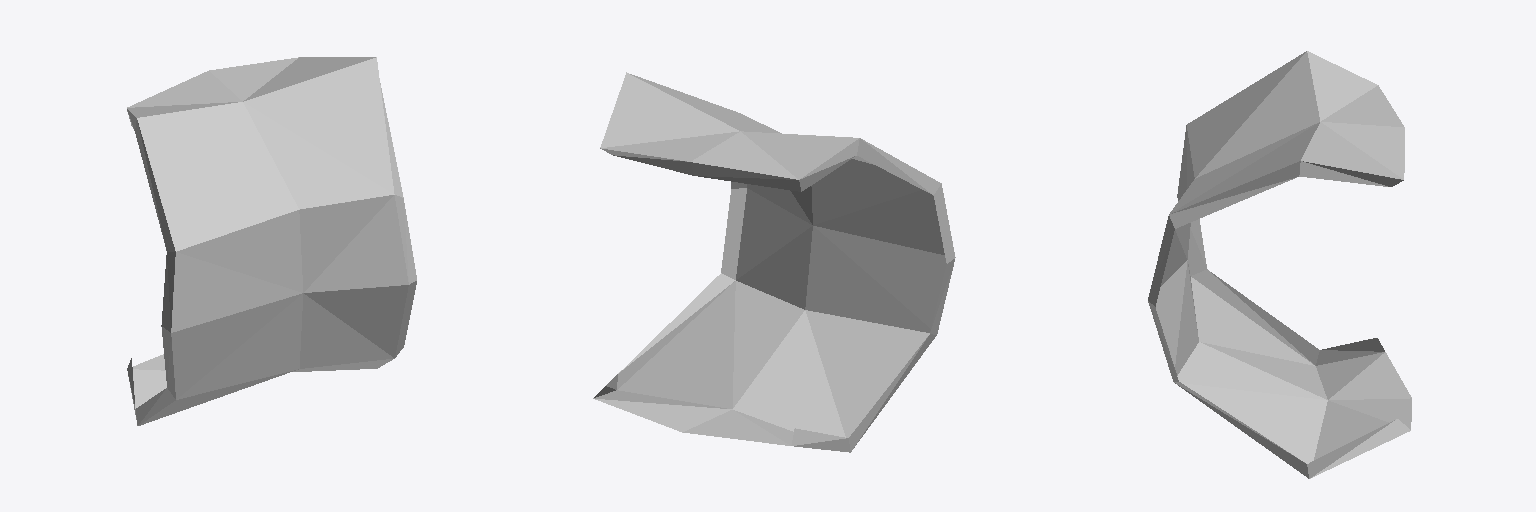
Rendered from Phalax_1.obj.
3 views of the same model, side by side, from view 1: azimuth 30°, elevation 25°; view 2: azimuth 150°, elevation 25°; view 3: azimuth 270°, elevation 25° (orthographic).
Size of the model in its own units: 0.0144 by 0.016 by 0.0121.